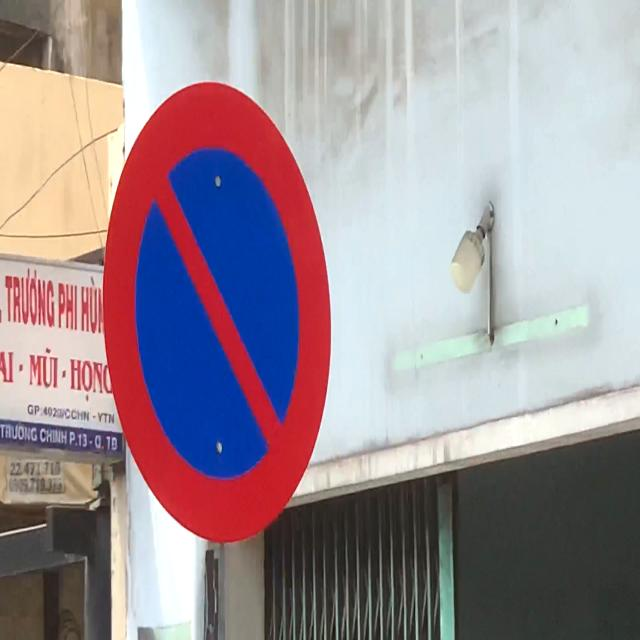P.131a: (102, 80, 332, 546)
